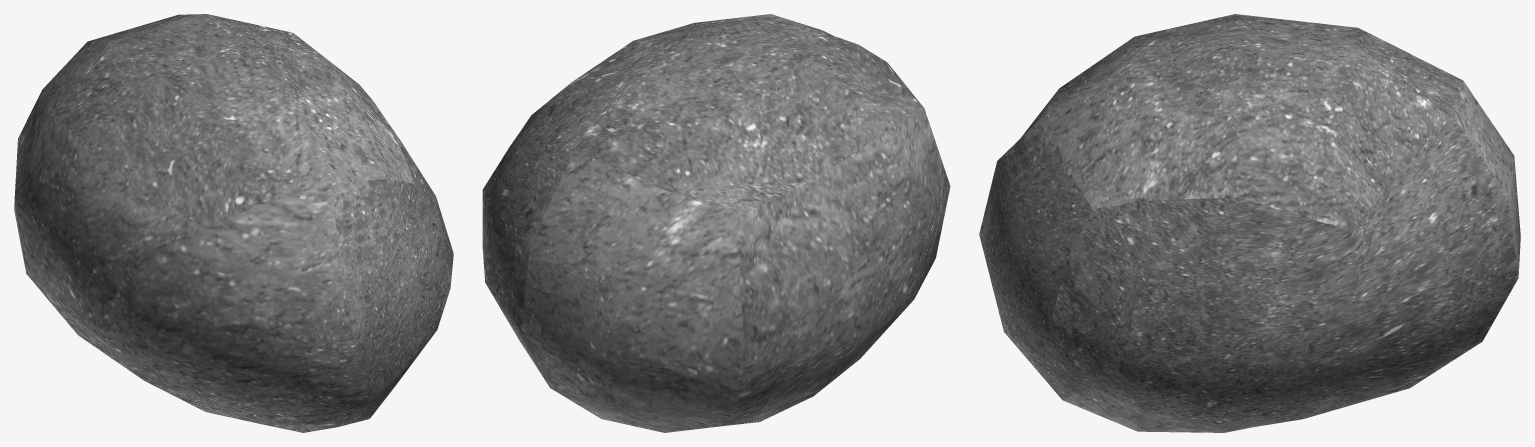
The model's file is Stone.fbx.
3 views of the same model, side by side, from view 1: azimuth 30°, elevation 25°; view 2: azimuth 150°, elevation 25°; view 3: azimuth 270°, elevation 25° (orthographic). The views are drawn at different scales.
Visible parts, largest first — view 1: pCube1; view 2: pCube1; view 3: pCube1.
Part boxes in pixels (left/top/right/bottom): pCube1: left=14, top=14, right=453, bottom=432; pCube1: left=482, top=14, right=950, bottom=432; pCube1: left=979, top=14, right=1520, bottom=432.
Size of the model in its own units: 3.48 by 3.23 by 4.24.
1 material, 1 textured.
